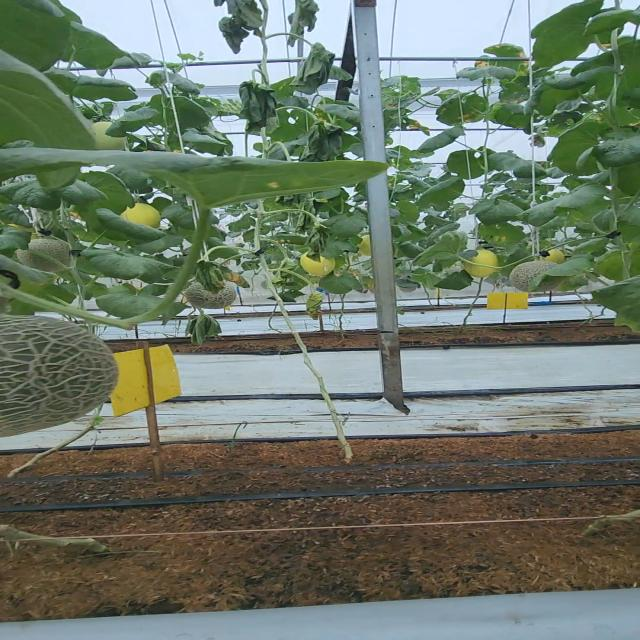Melon: (0, 314, 120, 436)
